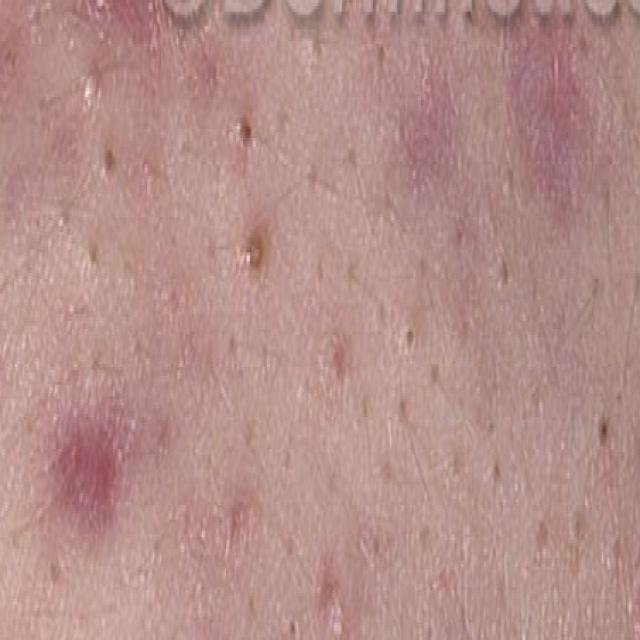blackhead: (246, 232, 265, 272), (238, 116, 252, 154), (101, 142, 116, 177), (47, 560, 63, 586), (598, 415, 610, 443), (87, 241, 98, 271), (500, 260, 510, 291), (405, 323, 415, 353), (491, 457, 502, 480), (289, 613, 298, 640), (121, 258, 132, 279), (169, 286, 178, 309), (92, 356, 100, 375)
